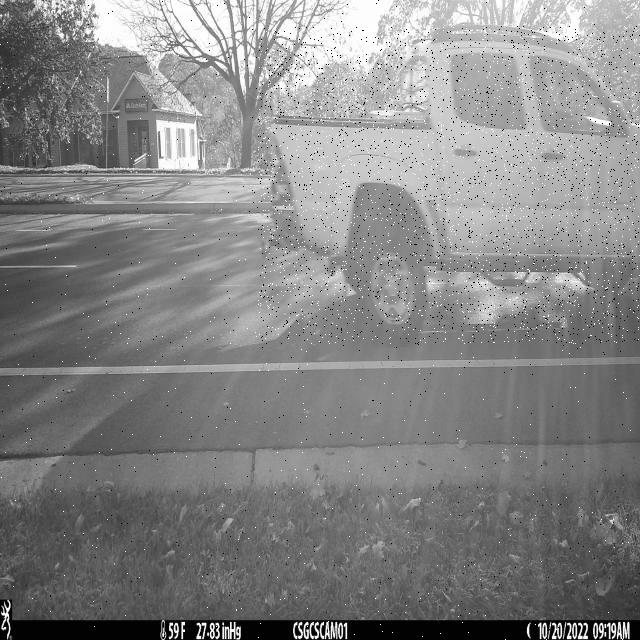Pickup: (258, 26, 640, 344)
